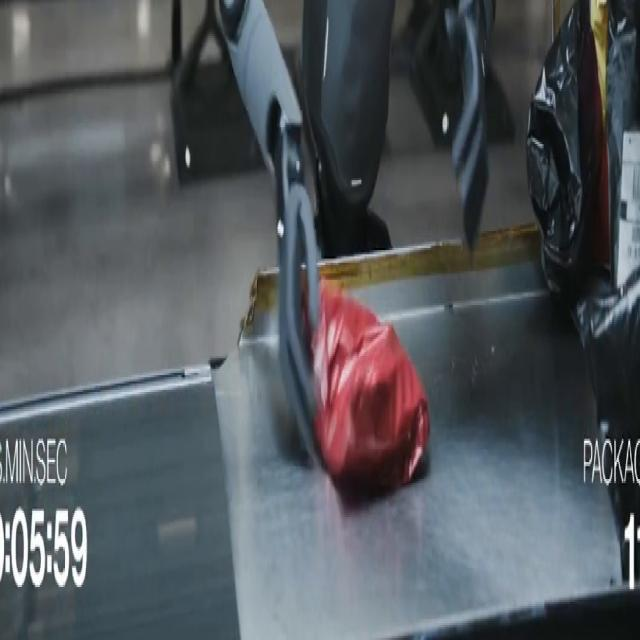package: (312, 282, 429, 491), (527, 0, 605, 298), (608, 0, 639, 286)
